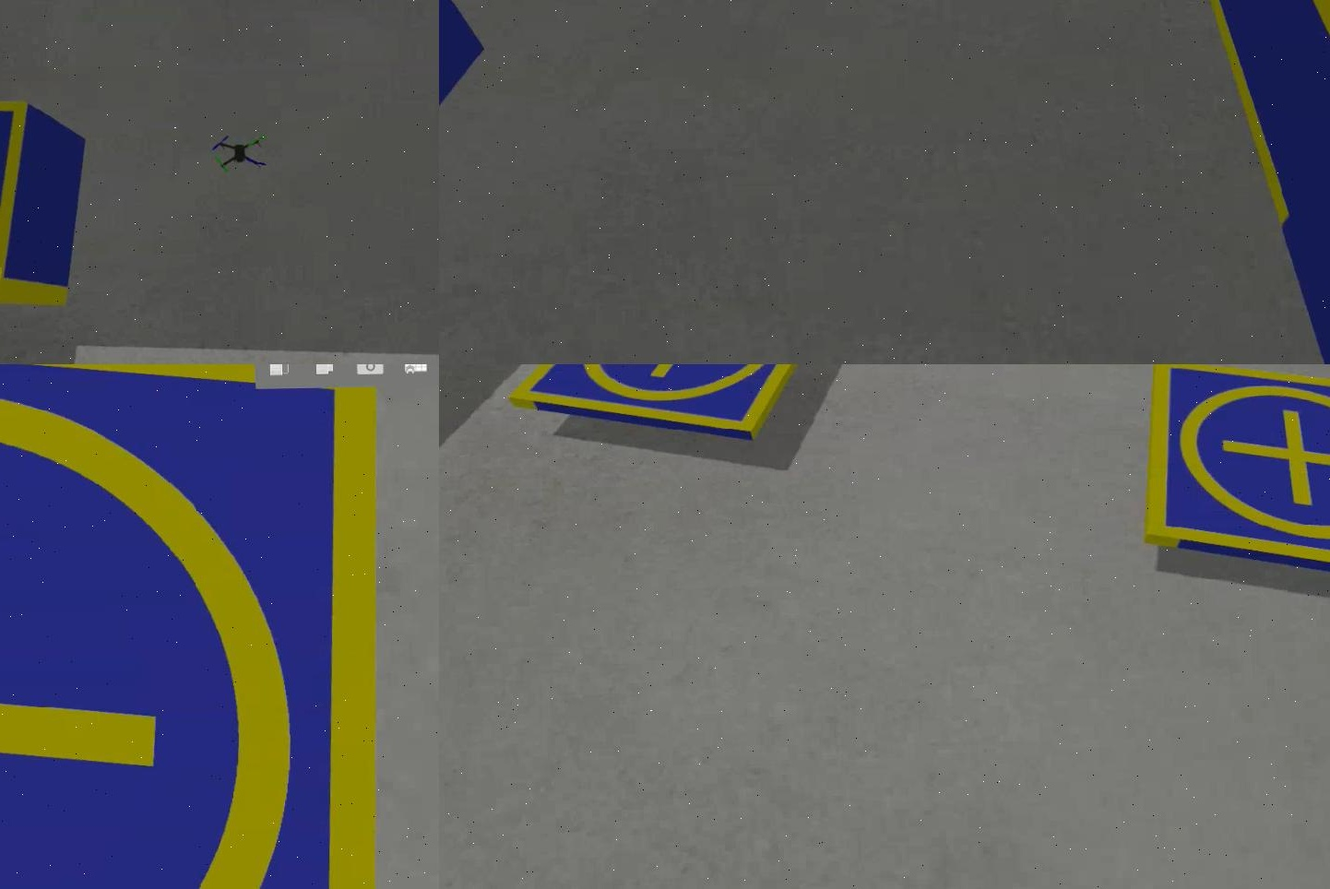large_base: (1184, 1, 1328, 365)
small_base: (0, 365, 385, 889), (1144, 365, 1328, 590), (503, 365, 836, 447)
